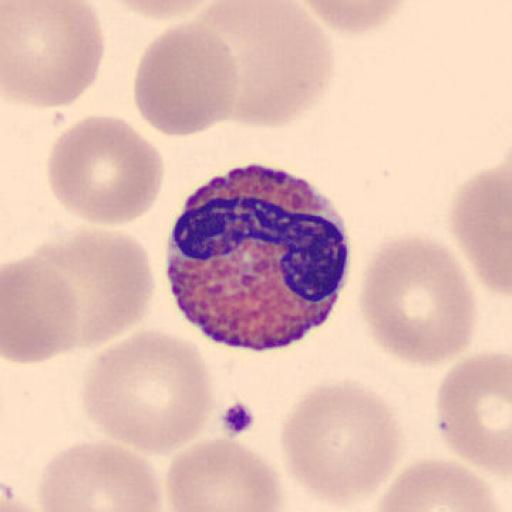RBC: (80, 327, 216, 456), (20, 226, 156, 352), (279, 378, 404, 511), (208, 1, 336, 129), (358, 233, 478, 368), (44, 113, 166, 227), (132, 22, 240, 139), (2, 2, 106, 108), (35, 438, 163, 512), (164, 436, 287, 512), (435, 350, 512, 468), (2, 254, 82, 364), (448, 161, 512, 297), (370, 457, 508, 512), (295, 0, 413, 37), (109, 0, 237, 27), (102, 0, 222, 21), (0, 475, 48, 511)
WBC: (164, 159, 351, 353)
